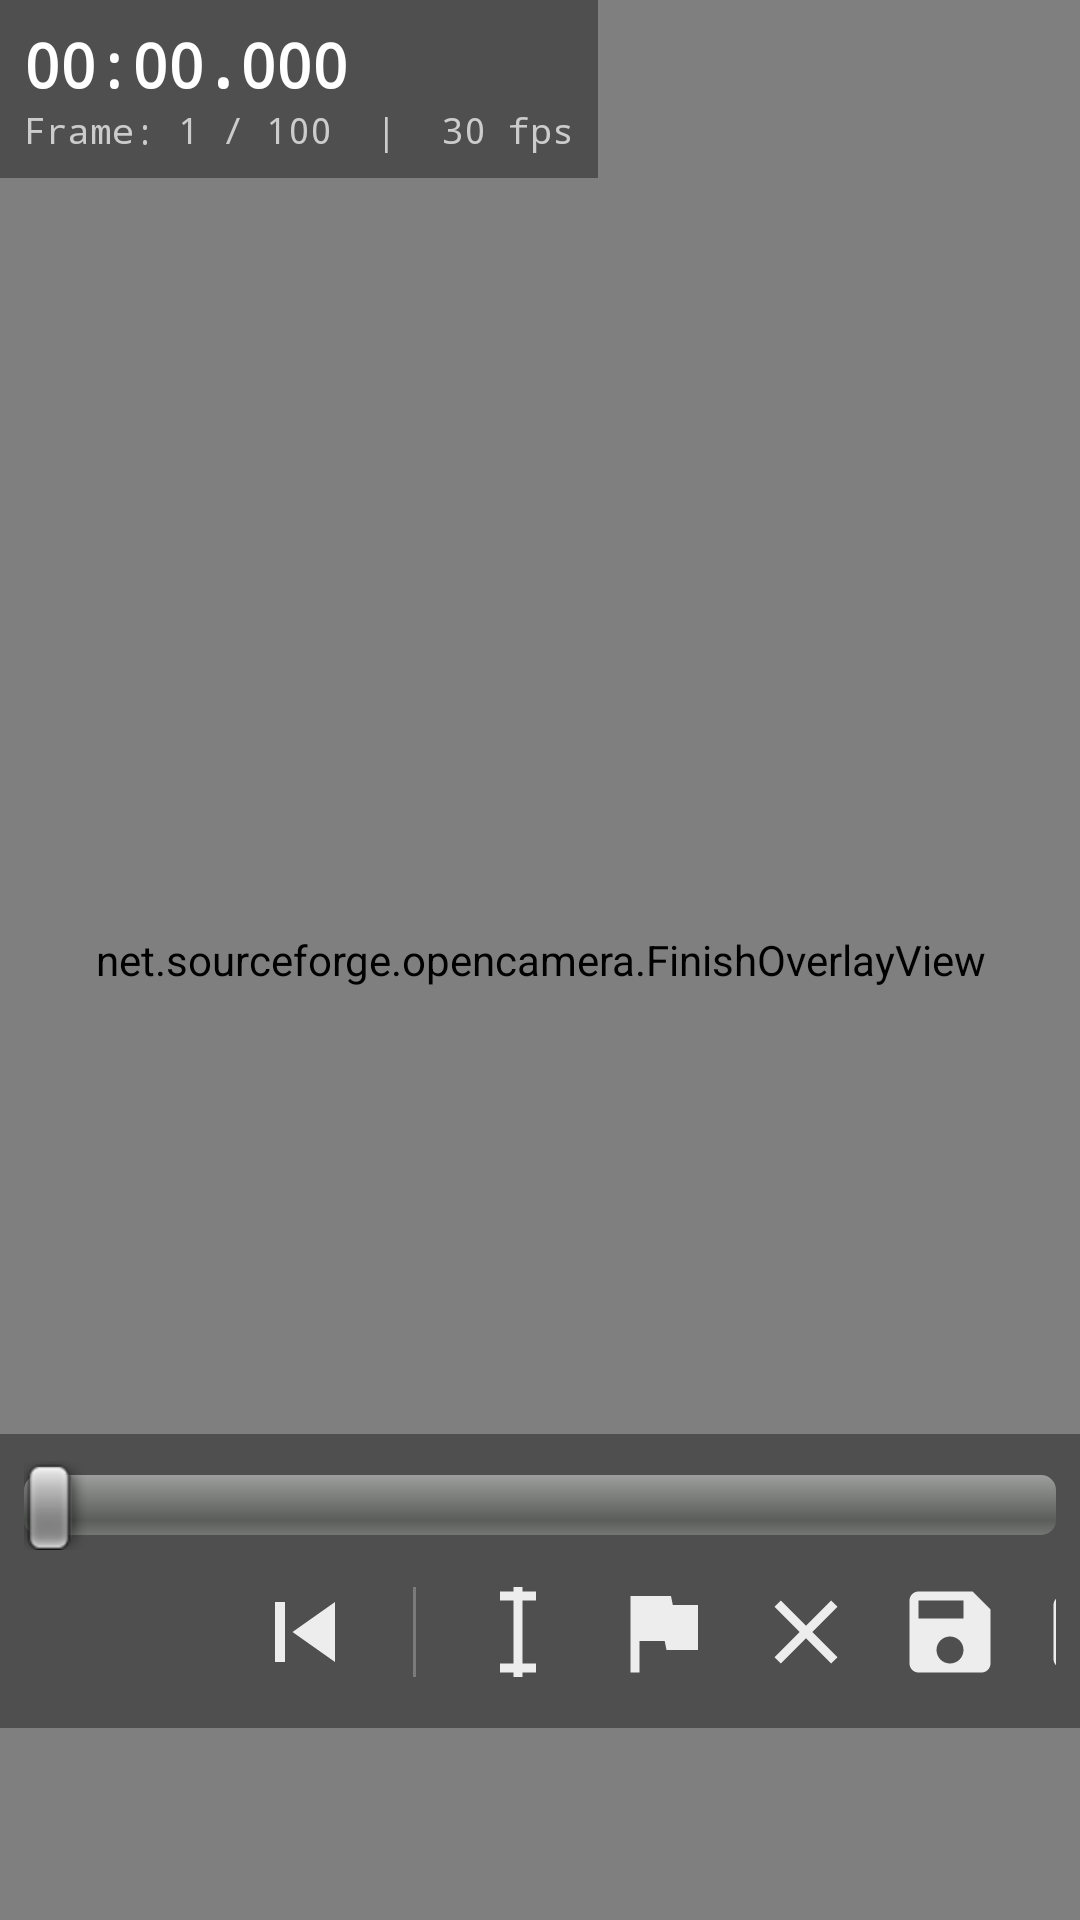

Point at icon controls on the screen. Image size 1080x1920, points as point (x, y).
Clear null point: point (806, 1632)
Save frame: point (950, 1632)
Set null point: point (664, 1634)
Toggle vertical line: point (518, 1632)
